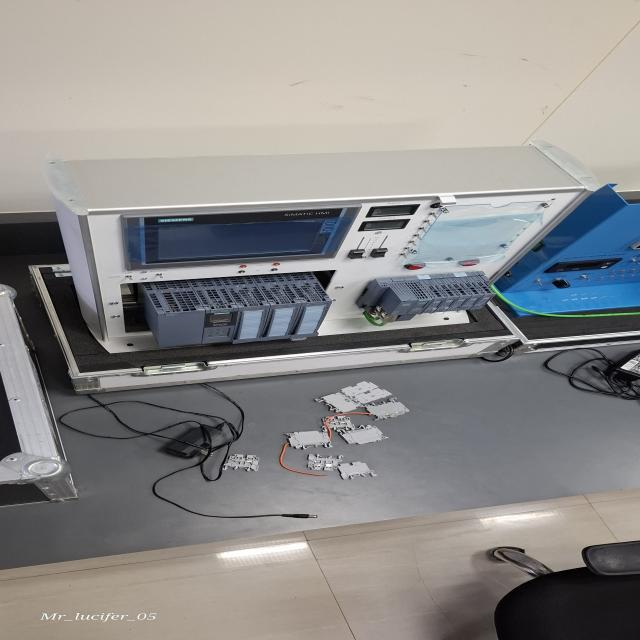Inverted: (336, 461, 378, 482)
Pass: (221, 452, 264, 472), (304, 452, 344, 472), (321, 414, 358, 434)
